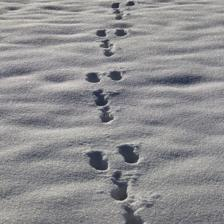rabbit: (83, 67, 124, 125), (93, 26, 129, 59)
